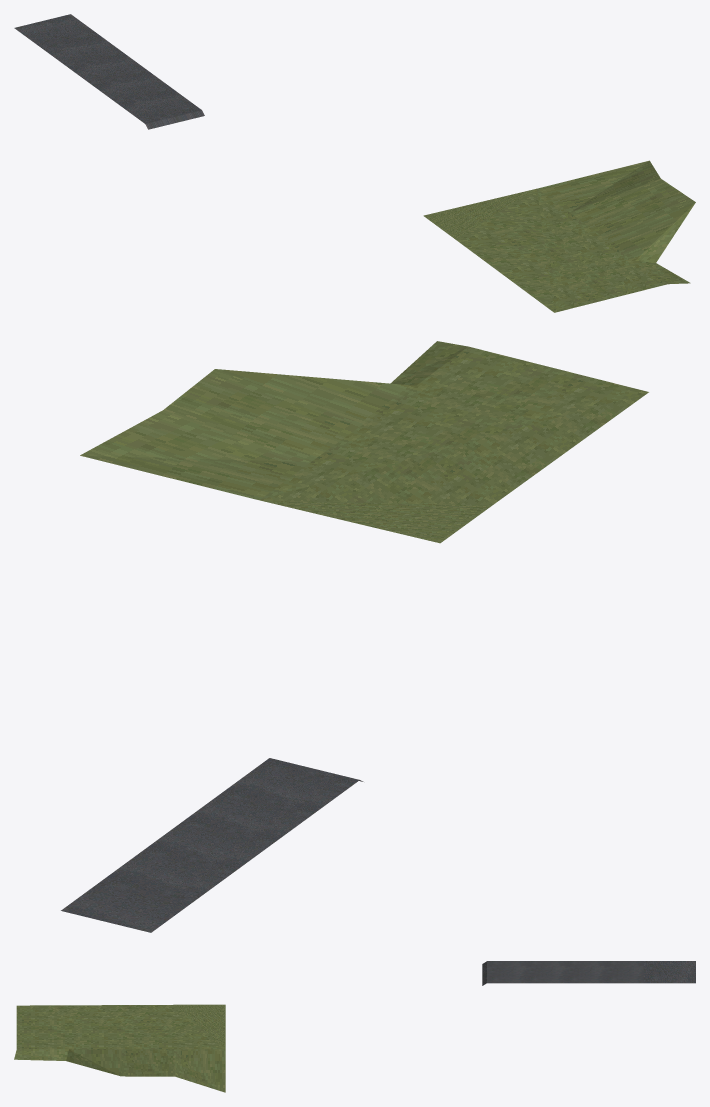
File: lodassedge27.obj
3 views of the same model, one above another, from view 1: azimuth 30°, elevation 25°; view 2: azimuth 150°, elevation 25°; view 3: azimuth 270°, elevation 25° (orthographic). The views are drawn at different scales.
Parts seen in each view (by area): view 1: lodasSedge27; view 2: lodasSedge27; view 3: lodasSedge27.
Part boxes in pixels (x1,y1,x2,y2): lodasSedge27: (14, 14, 695, 312); lodasSedge27: (61, 341, 648, 932); lodasSedge27: (14, 961, 695, 1092).
Bounding box in the file's own units: 120 × 5.75 × 261.
Materials: 2 (2 with a texture image).
